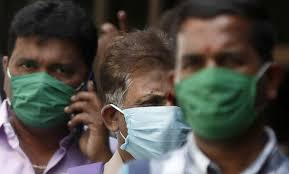mask: (174, 14, 260, 138), (2, 17, 83, 131), (110, 53, 179, 161)
